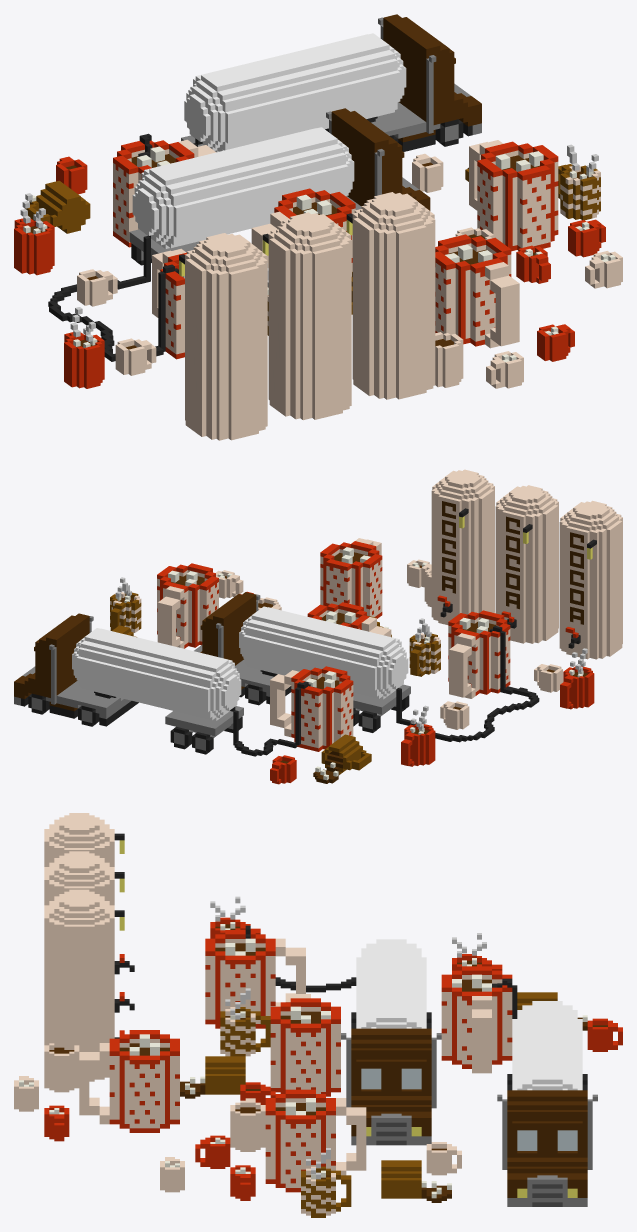
Rendered from hot_cocoa-1.obj.
3 views of the same model, one above another, from view 1: azimuth 30°, elevation 25°; view 2: azimuth 150°, elevation 25°; view 3: azimuth 270°, elevation 25° (orthographic). The views are drawn at different scales.
Visible parts, largest first — view 1: hot_cocoa-1; view 2: hot_cocoa-1; view 3: hot_cocoa-1.
Boxes of the visible parts, left/top/right/bottom form: hot_cocoa-1: left=14, top=14, right=622, bottom=440; hot_cocoa-1: left=14, top=469, right=622, bottom=784; hot_cocoa-1: left=14, top=813, right=622, bottom=1217.
Bounding box in the file's own units: 124 × 37 × 121.
1 material, 1 textured.
